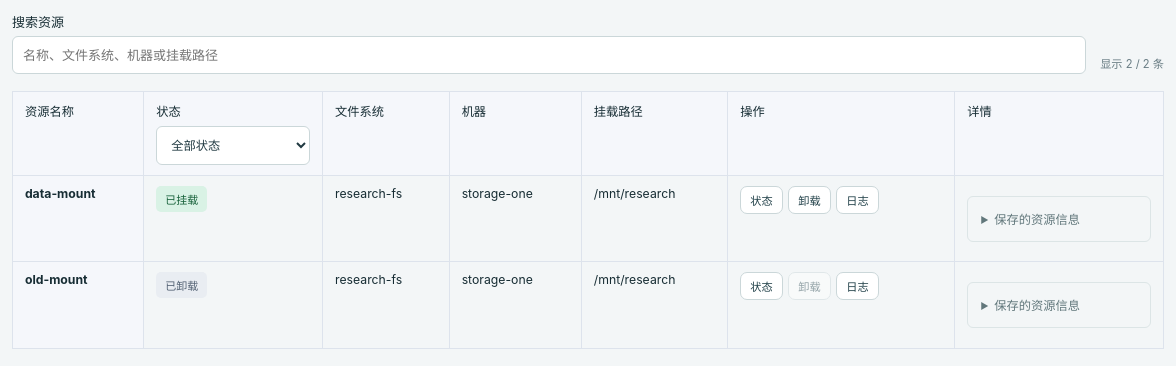
Test case: mount status filter and colors distinguish mounted from unmounted
Step 1. Select "已卸载" in the dropdown named "筛选资源状态" → {"x": 233, "y": 146}, box [156,126,310,165]
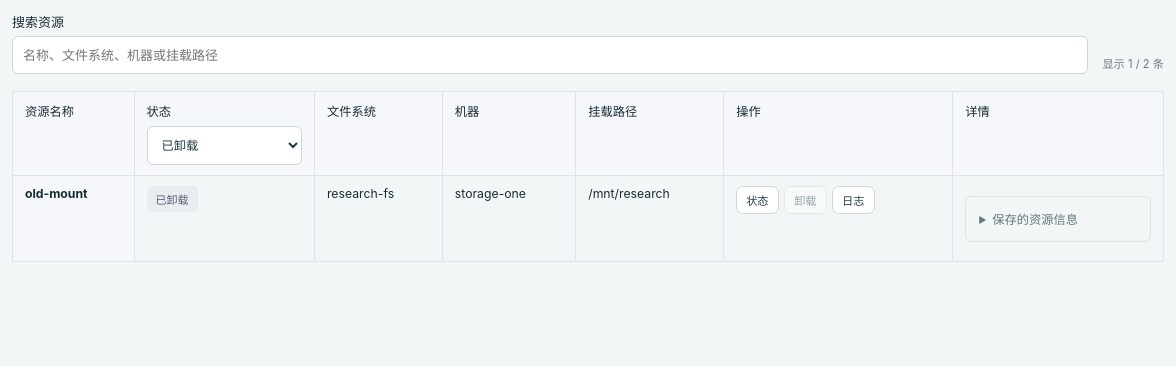
Check: the column heading "old-mount" is shown, box [12,175,134,262]
Check: the column heading "data-mount" is gone
